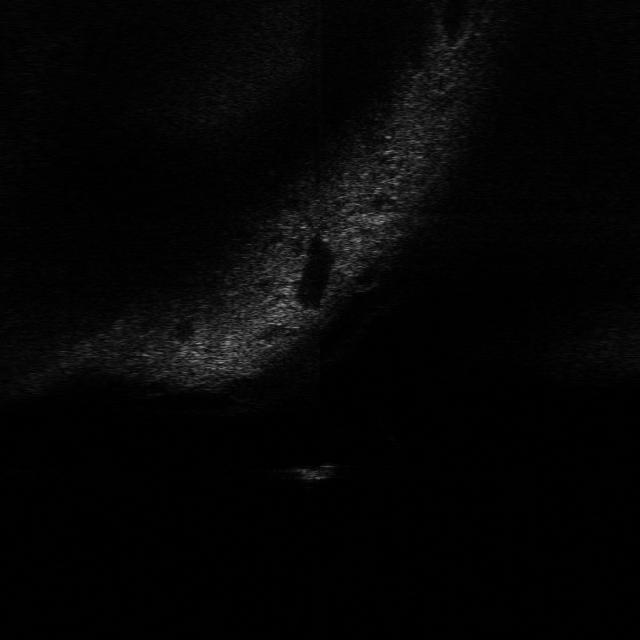cube: (289, 459, 342, 486)
